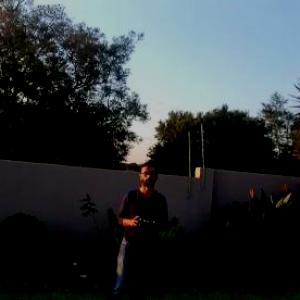follow: (103, 154, 176, 299)
